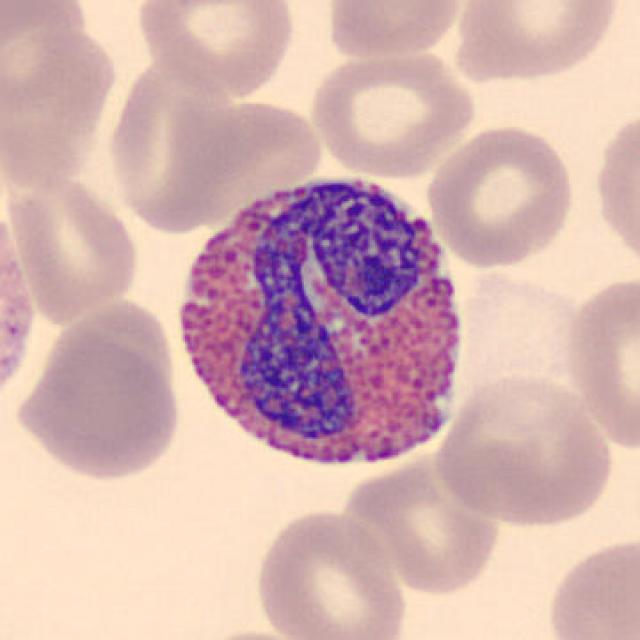Eosinophil: (162, 152, 484, 496)
Lymphocyte: (0, 178, 43, 427)
RBC: (430, 368, 617, 530), (104, 50, 257, 233), (10, 324, 186, 483), (336, 452, 505, 600), (423, 120, 580, 270), (306, 46, 478, 180), (4, 166, 144, 328), (250, 504, 410, 640), (0, 37, 115, 196), (133, 0, 298, 100), (450, 0, 624, 85), (562, 268, 640, 457), (540, 530, 639, 640), (322, 0, 468, 62), (590, 102, 638, 280), (0, 0, 96, 85), (179, 627, 334, 640)
